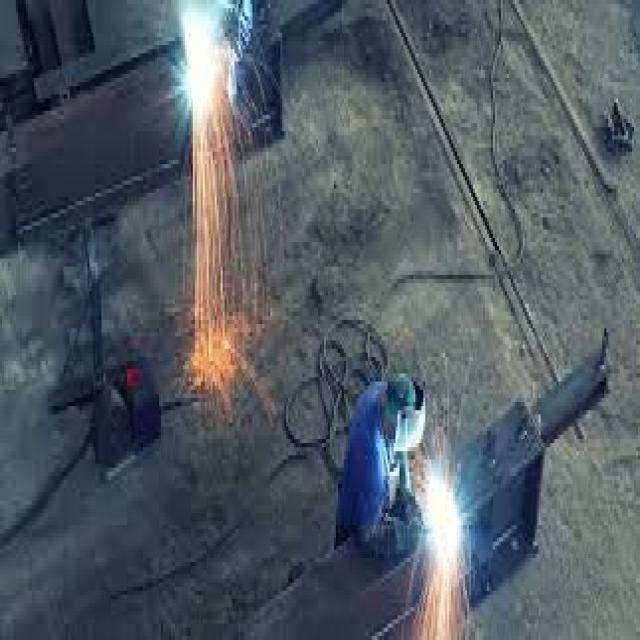welding: (425, 480, 463, 552), (184, 26, 220, 101)
